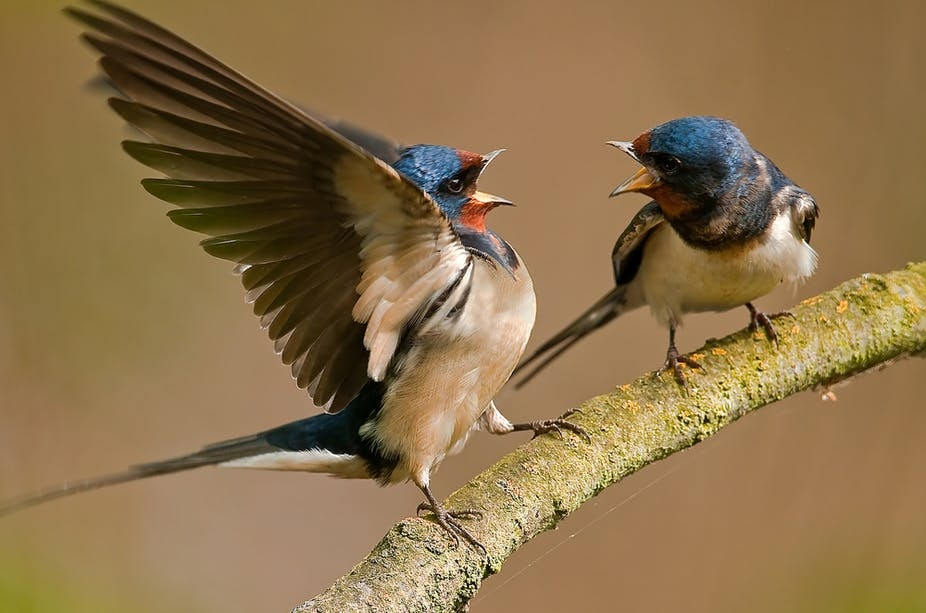bird: (54, 5, 593, 556), (533, 111, 829, 404)
